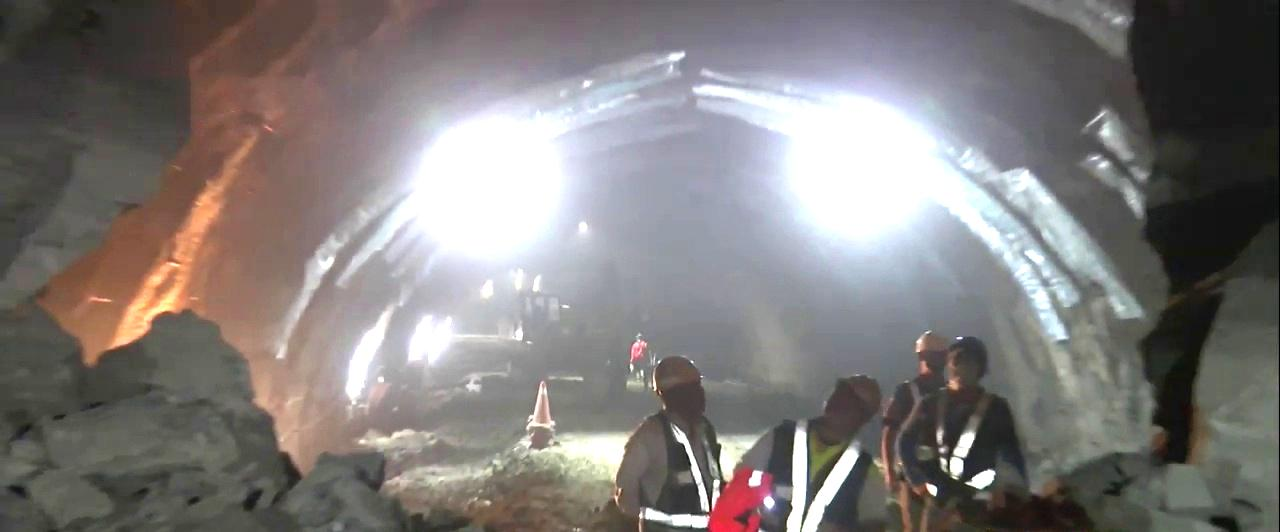helmet: (824, 374, 882, 440), (652, 355, 706, 418), (945, 336, 989, 381), (916, 329, 950, 374)
